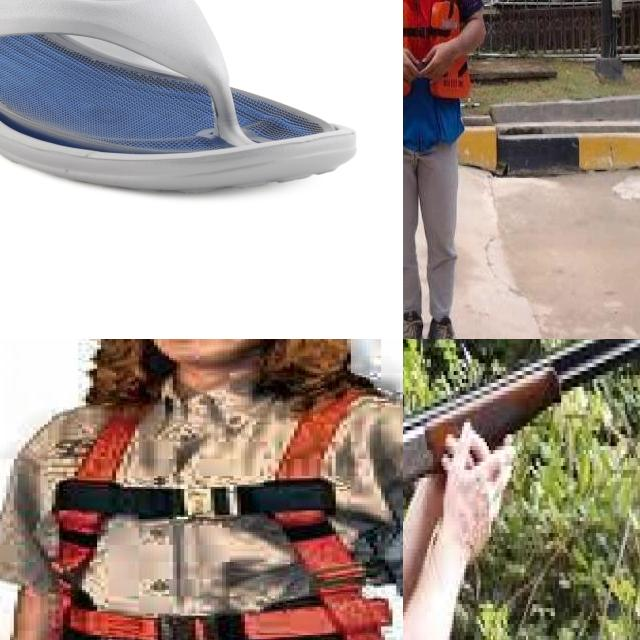Harness: (46, 382, 388, 640)
Sandals: (0, 0, 358, 194)
boots: (425, 313, 464, 339), (403, 309, 422, 339)
person: (403, 0, 493, 339)
